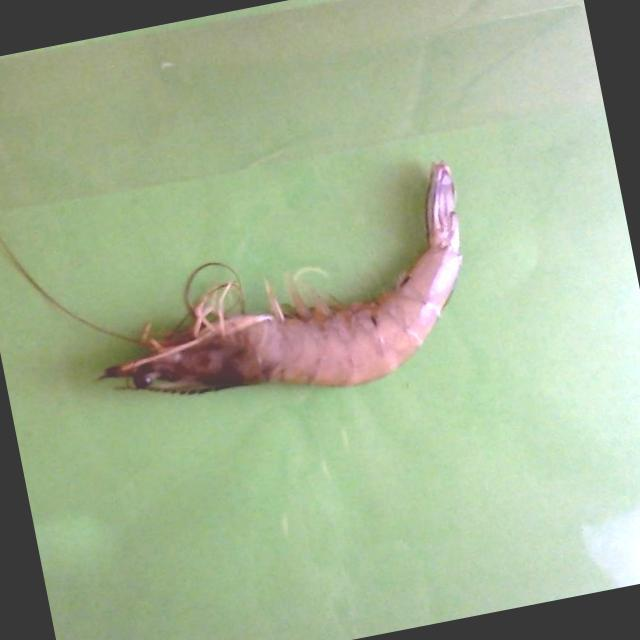shrimp: (102, 162, 463, 394)
